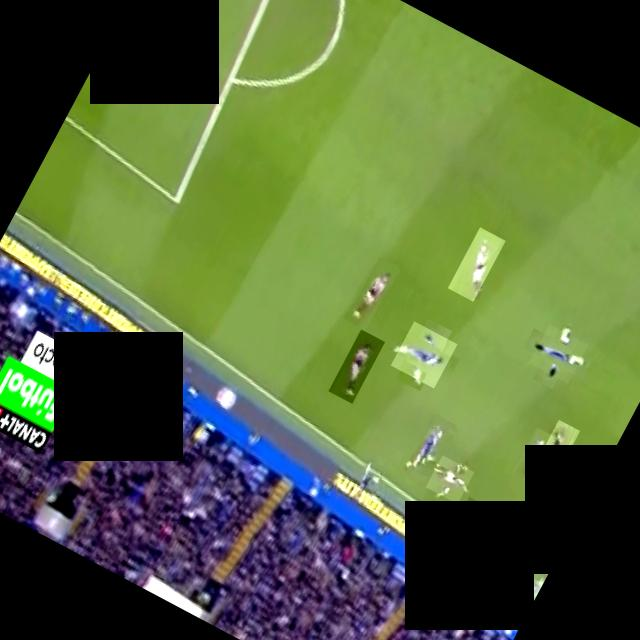referee: (531, 419, 579, 482)
soccer-player: (390, 321, 457, 388), (447, 226, 505, 302), (328, 329, 384, 404), (343, 256, 399, 330), (402, 414, 457, 484), (528, 324, 588, 384), (443, 496, 490, 555), (424, 454, 474, 504), (512, 427, 554, 483), (510, 574, 542, 612)
